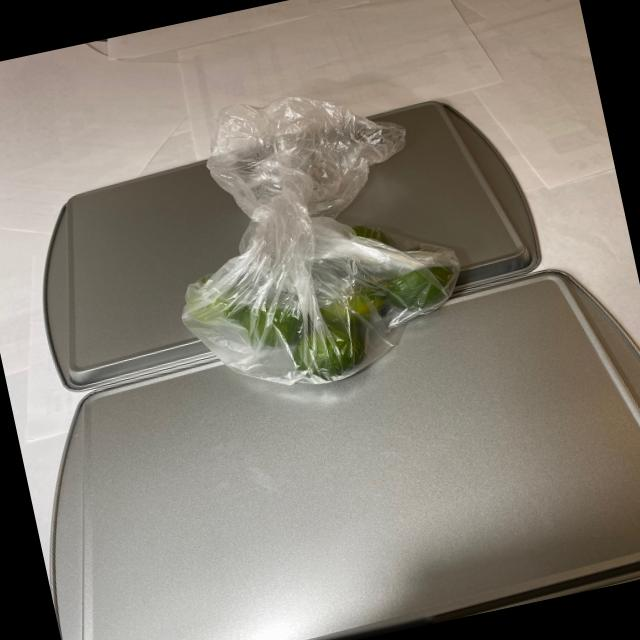lemon: (174, 210, 477, 408)
